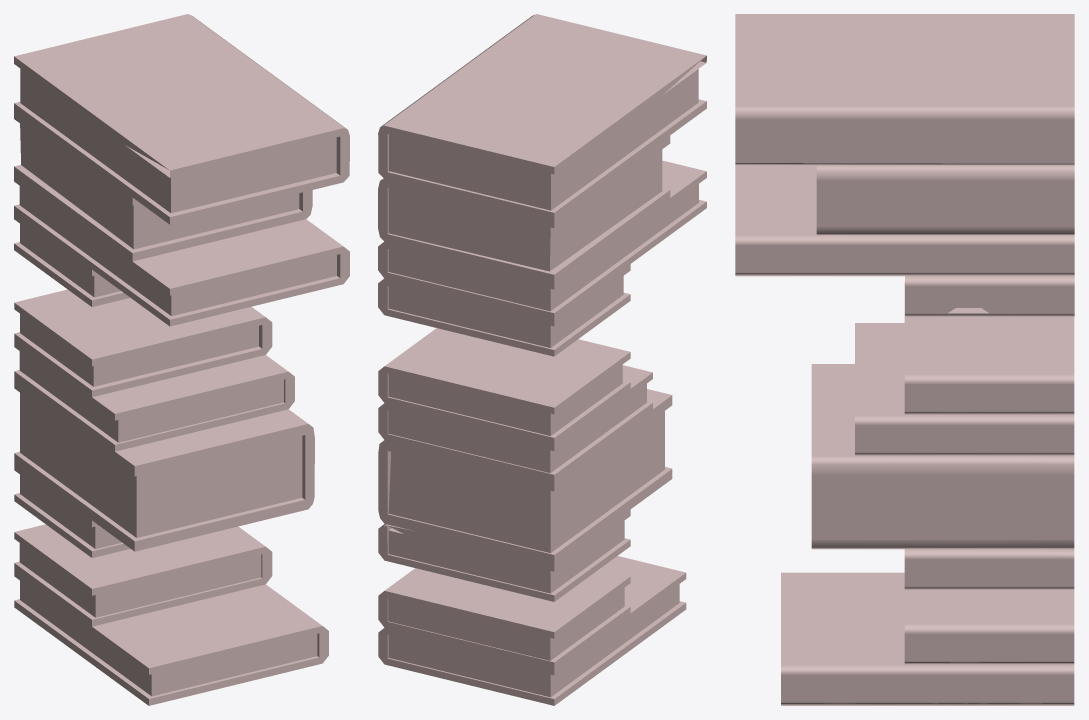
Rendered from books pivot correct.fbx.
3 renders of one model, left to right at view 1: azimuth 30°, elevation 25°; view 2: azimuth 150°, elevation 25°; view 3: azimuth 270°, elevation 25°, orthographic. The views are drawn at different scales.
Visible parts, largest first — view 1: Object_1, Object_18, Object_11, Object_4, Object_6, Object_8, Object_12, Object_10, Object_7, Object_13, Object_14, Object_21 (+8 smaller); view 2: Object_1, Object_18, Object_6, Object_13, Object_12, Object_10, Object_8, Object_11, Object_4, Object_14, Object_3, Object_21 (+8 smaller); view 3: Object_1, Object_8, Object_11, Object_4, Object_3, Object_6, Object_7, Object_10, Object_9, Object_5.
Boxes of the visible parts, box(x1,y1,x2,y2) form: Object_1: box(14, 14, 349, 224); Object_18: box(20, 393, 302, 537); Object_11: box(14, 570, 328, 705); Object_4: box(14, 175, 349, 326); Object_6: box(14, 289, 272, 397); Object_8: box(14, 378, 314, 551); Object_12: box(20, 69, 336, 213); Object_10: box(14, 524, 272, 626); Object_7: box(14, 340, 294, 451); Object_13: box(20, 123, 299, 249); Object_14: box(19, 186, 336, 316); Object_21: box(20, 581, 317, 696); Object_1: box(378, 14, 706, 219); Object_18: box(388, 411, 664, 552); Object_6: box(378, 328, 630, 444); Object_13: box(388, 149, 662, 271); Object_12: box(389, 69, 698, 210); Object_10: box(378, 568, 630, 668); Object_8: box(378, 389, 672, 564); Object_11: box(378, 556, 686, 705); Object_4: box(378, 160, 706, 319); Object_14: box(388, 184, 698, 311); Object_3: box(378, 135, 670, 282); Object_21: box(388, 584, 679, 697); Object_1: box(735, 14, 1074, 165); Object_8: box(811, 364, 1074, 549); Object_11: box(781, 572, 1074, 705); Object_4: box(735, 165, 1074, 276); Object_3: box(816, 165, 1074, 235); Object_6: box(904, 282, 1074, 415); Object_7: box(855, 323, 1074, 456); Object_10: box(904, 590, 1074, 664); Object_9: box(904, 549, 1074, 590); Object_5: box(905, 276, 1074, 317).
Size of the model in its own units: 20 by 58.48 by 30.
